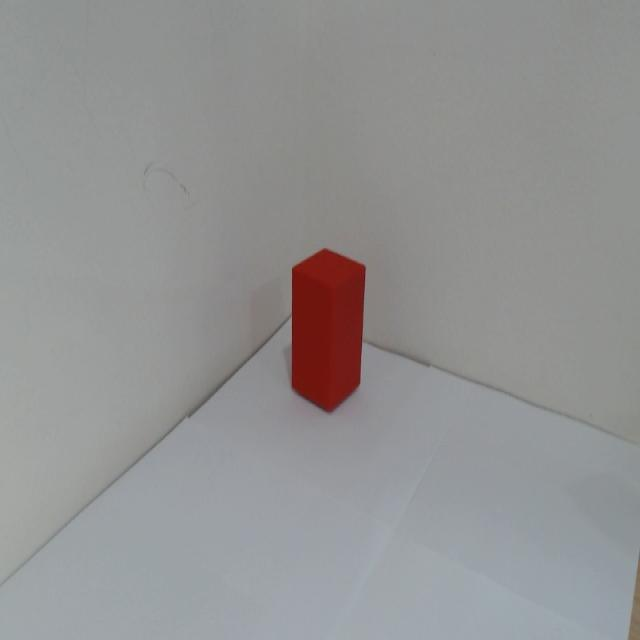cube: (279, 232, 379, 415)
